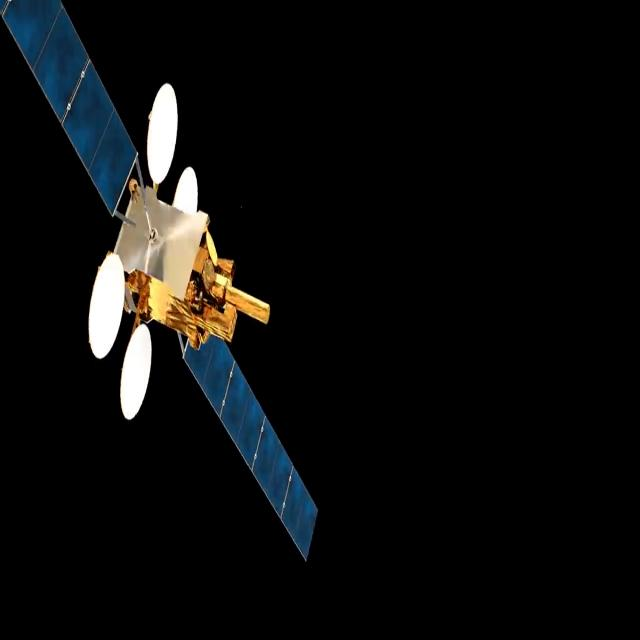satellite: (0, 0, 324, 640)
